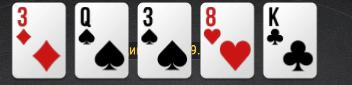3d: (13, 2, 65, 77)
3s: (139, 3, 191, 77)
8h: (202, 4, 254, 78)
Kc: (264, 4, 316, 78)
Qs: (75, 4, 127, 77)
